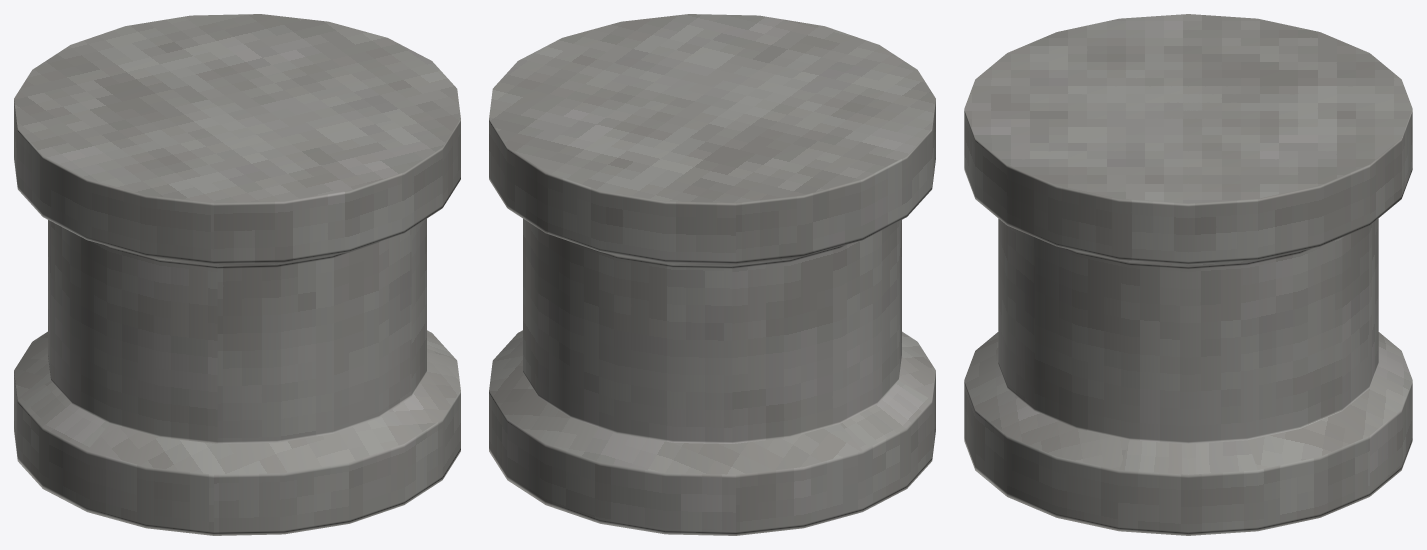
File: objects_un_base_scaffold02.gltf
The picture shows the model from 3 angles, left to right: view 1: azimuth 30°, elevation 25°; view 2: azimuth 150°, elevation 25°; view 3: azimuth 270°, elevation 25°; orthographic projection.
Visible parts, largest first — view 1: objects_un_base_scaffold02_mesh_shape:objects_un_base_scaffo; view 2: objects_un_base_scaffold02_mesh_shape:objects_un_base_scaffo; view 3: objects_un_base_scaffold02_mesh_shape:objects_un_base_scaffo.
Boxes of the visible parts, x1,y1,x2,y2 form: objects_un_base_scaffold02_mesh_shape:objects_un_base_scaffo: (14, 14, 460, 535); objects_un_base_scaffold02_mesh_shape:objects_un_base_scaffo: (489, 14, 935, 535); objects_un_base_scaffold02_mesh_shape:objects_un_base_scaffo: (964, 14, 1412, 535).
Bounding box in the file's own units: 5.5 × 4.5 × 5.5.
Materials: 1 (1 with a texture image).
